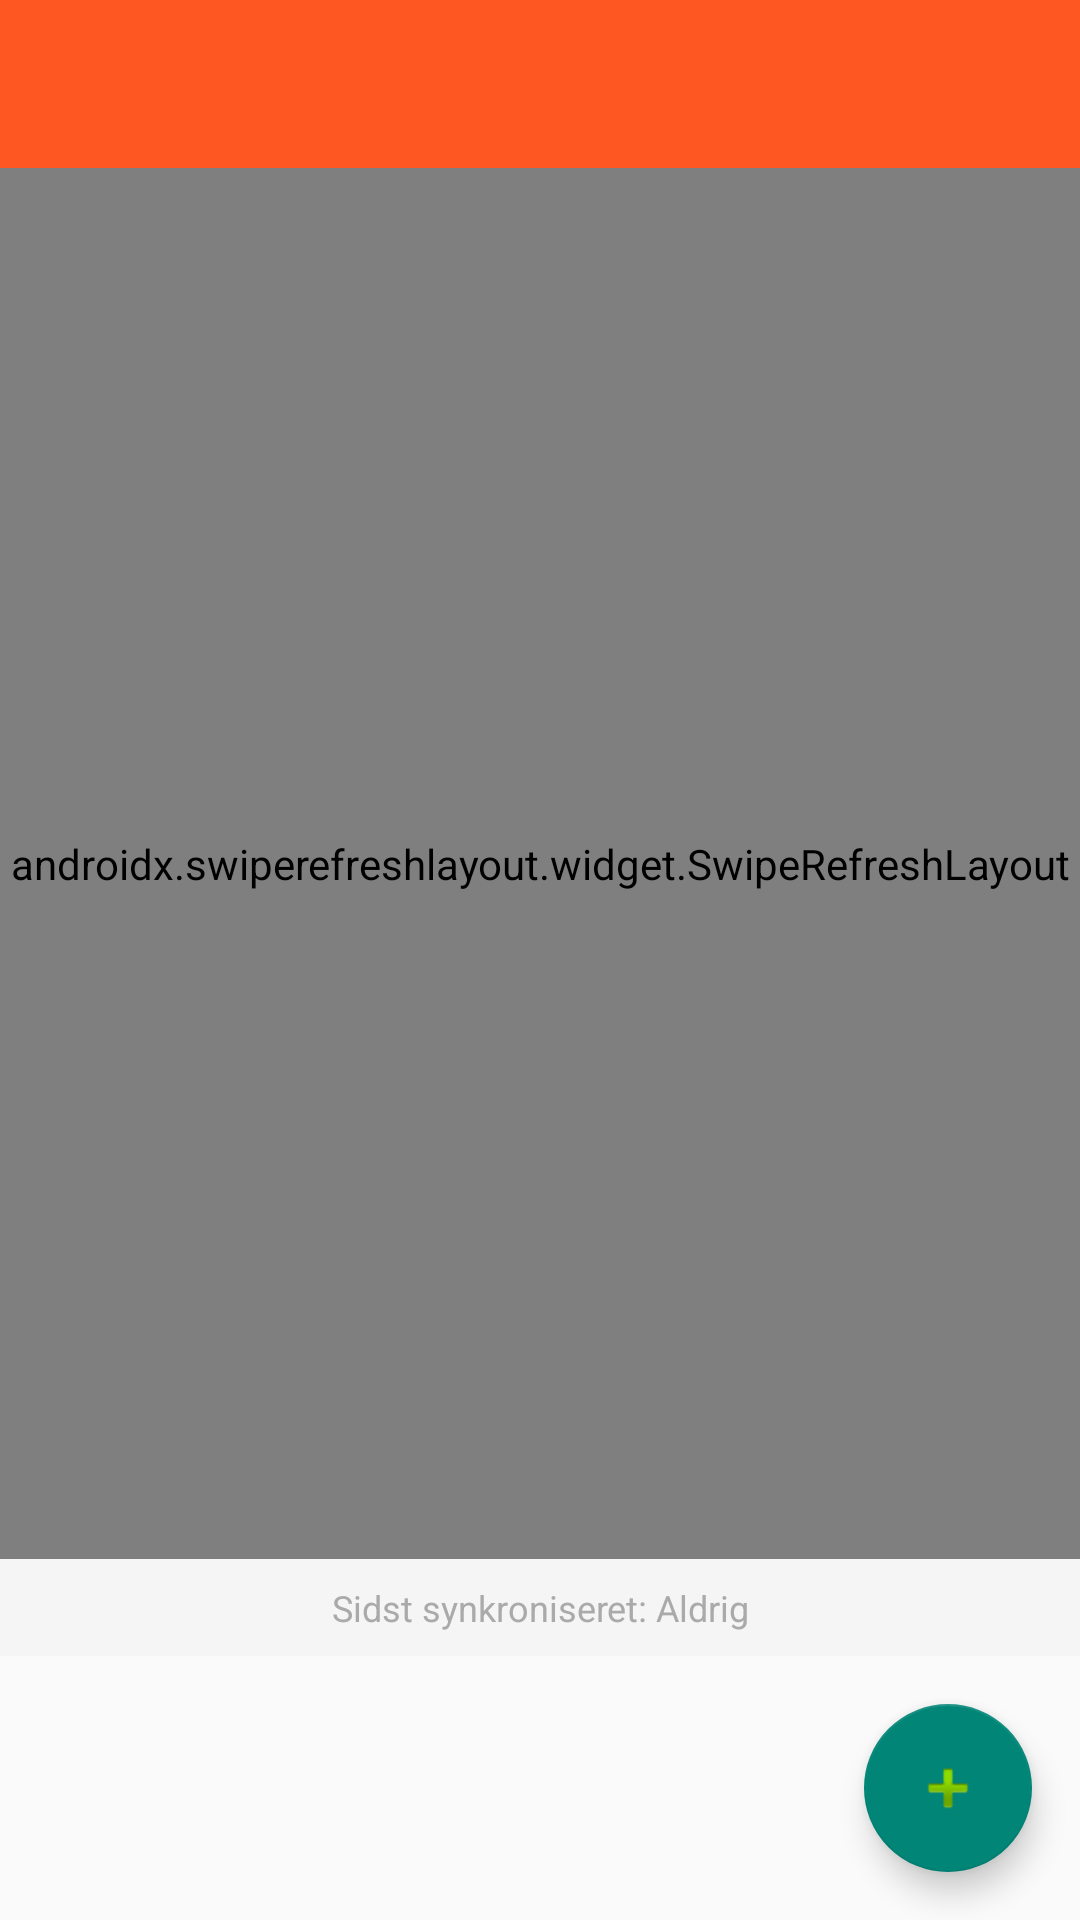

Icons on this 1080*1920 Android screen, each with its box as [x1, y1, x2, y2]:
Add List: [864, 1704, 1032, 1872]
